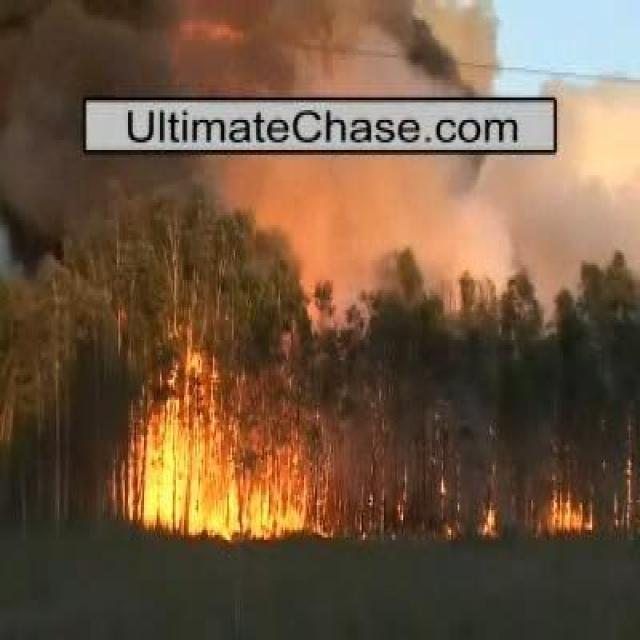fire: (144, 417, 256, 528)
smoke: (394, 157, 638, 251), (257, 2, 500, 96)
